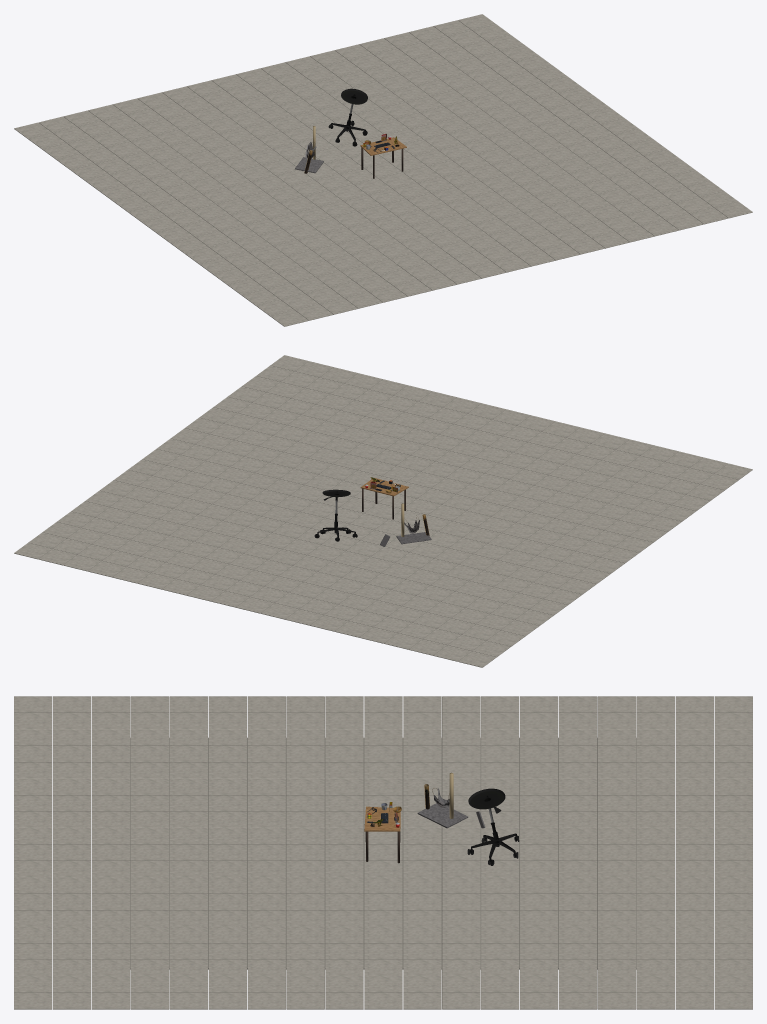
Rendered from viga.glb.
3 renders of one model, top to bottom at view 1: azimuth 30°, elevation 25°; view 2: azimuth 150°, elevation 25°; view 3: azimuth 270°, elevation 25°, orthographic. The views are drawn at different scales.
Parts seen in each view (by area): view 1: Grouted floor bed, black_office_chair_mesh; view 2: Grouted floor bed, black_office_chair_mesh; view 3: Grouted floor bed, black_office_chair_mesh, Stone floor tile.098, Stone floor tile.110, Stone floor tile.269, Stone floor tile.281, Stone floor tile.345, Stone floor tile.357, Oak tabletop, Stone floor tile.102, Stone floor tile.103, Stone floor tile.104 (+344 smaller).
Boxes of the visible parts, x1=… form: Grouted floor bed: x1=128, y1=63, x2=639, y2=282; black_office_chair_mesh: x1=328, y1=88, x2=367, y2=146; Grouted floor bed: x1=127, y1=404, x2=638, y2=623; black_office_chair_mesh: x1=314, y1=489, x2=357, y2=541; Grouted floor bed: x1=130, y1=737, x2=636, y2=969; black_office_chair_mesh: x1=467, y1=788, x2=519, y2=865; Stone floor tile.098: x1=130, y1=778, x2=169, y2=795; Stone floor tile.110: x1=597, y1=778, x2=636, y2=795; Stone floor tile.269: x1=130, y1=926, x2=169, y2=943; Stone floor tile.281: x1=597, y1=926, x2=636, y2=943; Stone floor tile.345: x1=130, y1=992, x2=169, y2=1009; Stone floor tile.357: x1=597, y1=992, x2=636, y2=1009; Oak tabletop: x1=364, y1=806, x2=400, y2=831; Stone floor tile.102: x1=286, y1=778, x2=324, y2=795; Stone floor tile.103: x1=325, y1=778, x2=363, y2=795; Stone floor tile.104: x1=364, y1=778, x2=402, y2=795.
Size of the model in its own units: 10.86 by 1.06 by 10.86.
391 materials, 373 textured.
